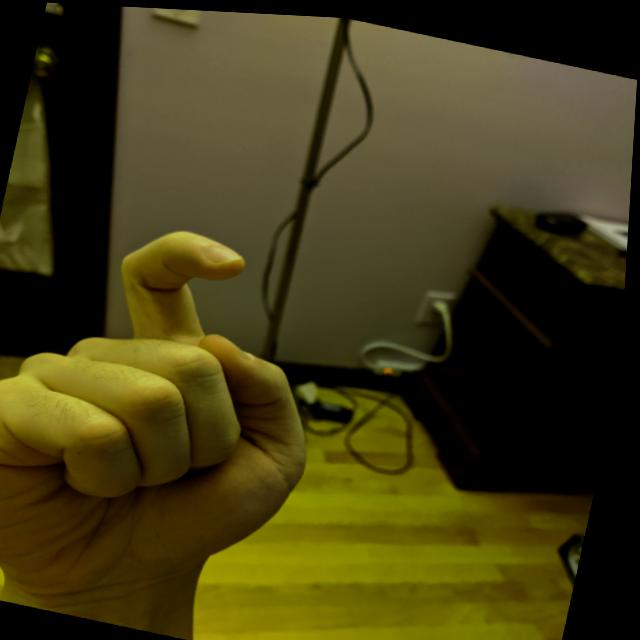X: (0, 184, 366, 639)
